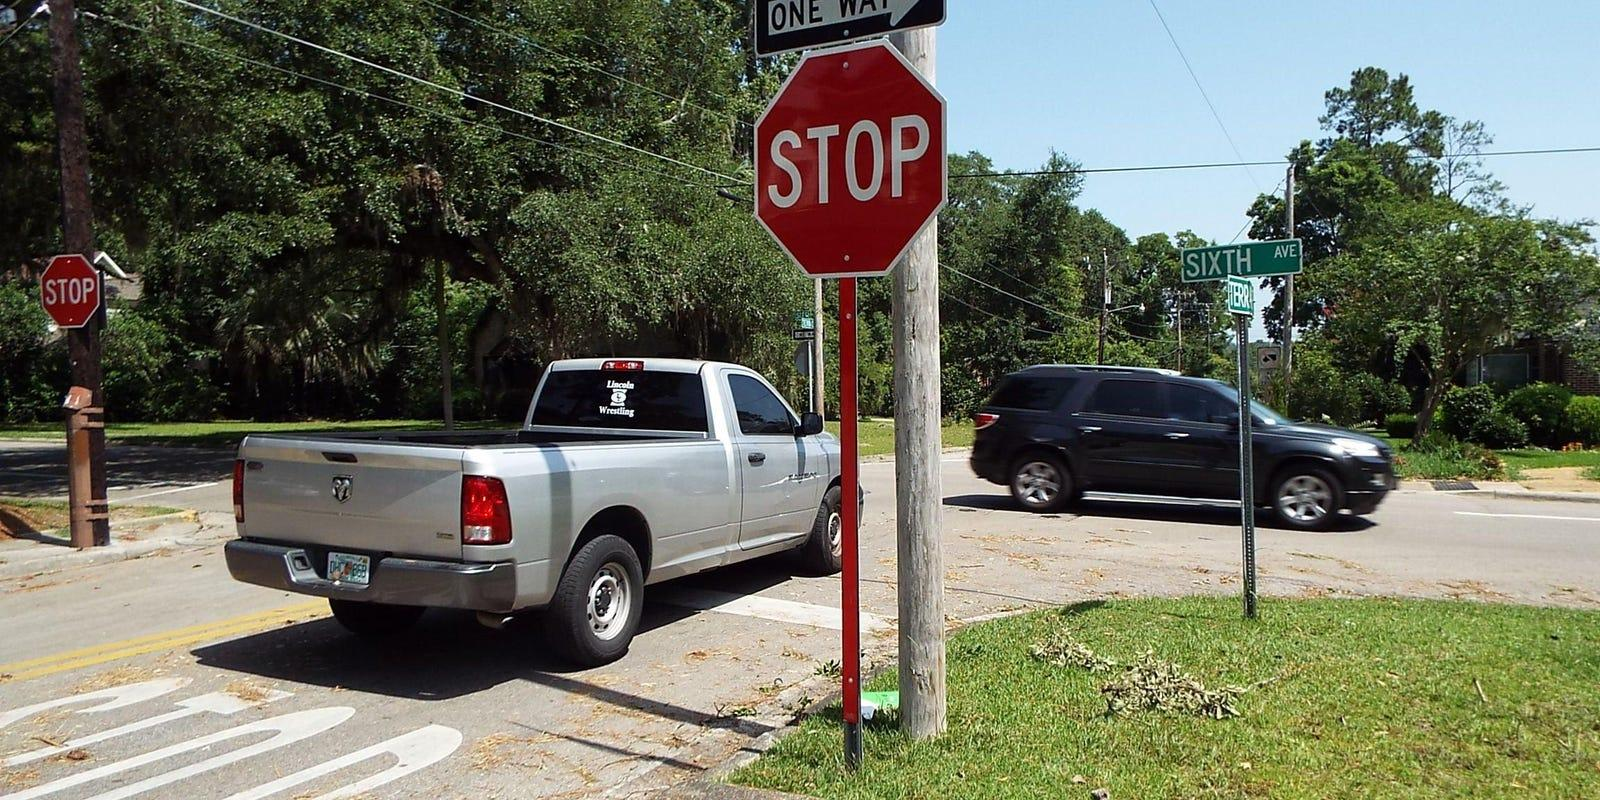Pole: (840, 277, 858, 749), (1237, 323, 1254, 619)
Sign: (753, 43, 946, 271), (40, 254, 100, 329)
